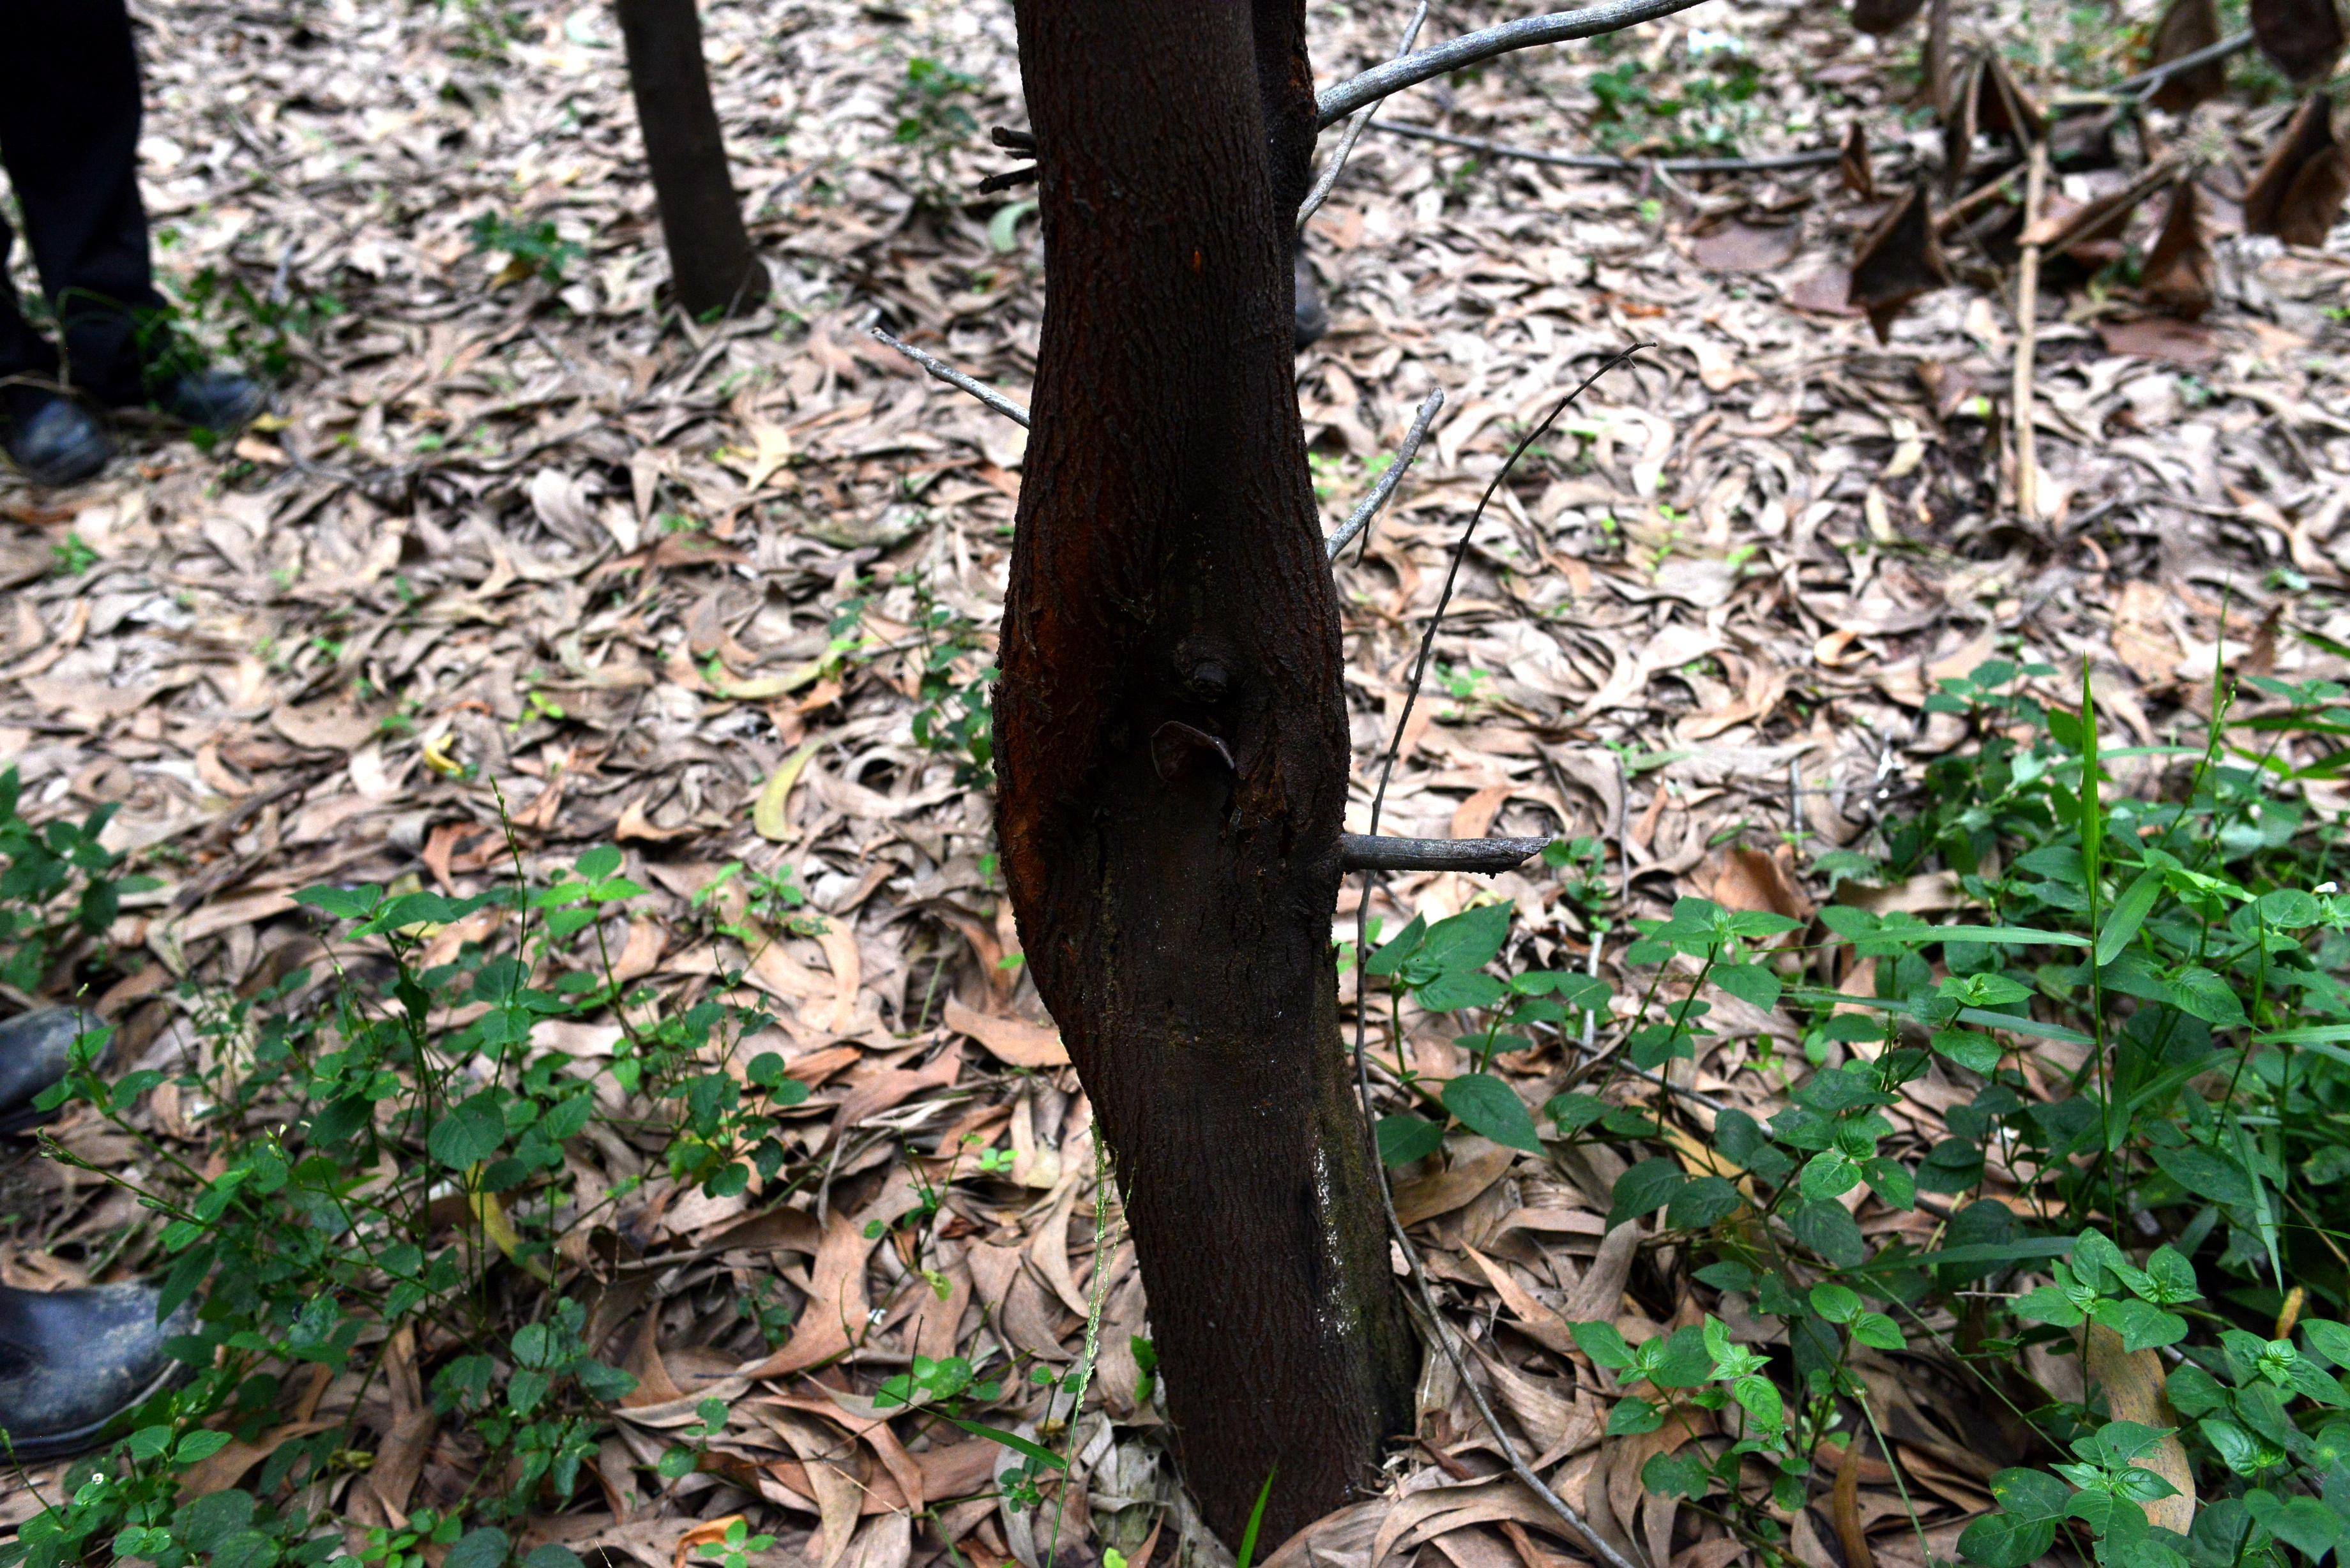Stem Deformation: (990, 0, 1444, 1555)
